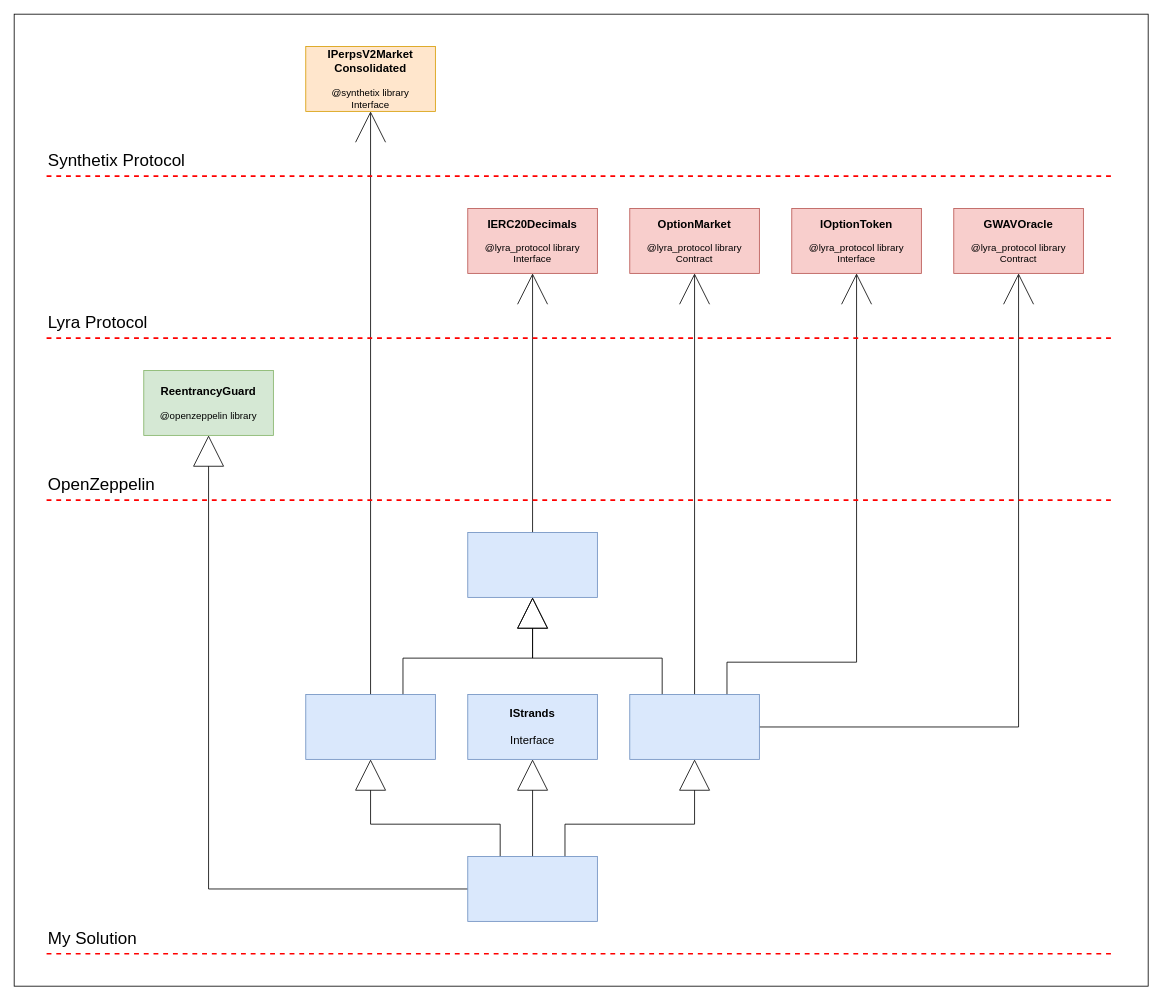
Some shapes in this 1162 by 1000 pixel diagram are drawn without their labels. The shapes that lost their labels are listed below. From the top down, each one's box as (x1, y1, x2, y2) in pixels, then its label:
(467, 532, 597, 597): Utils Abstract Contract
(305, 694, 435, 759): SynthetixAdapter Abstract Contract
(629, 694, 759, 759): LyraAdapter Abstract Contract
(467, 856, 597, 921): Strands Contract
